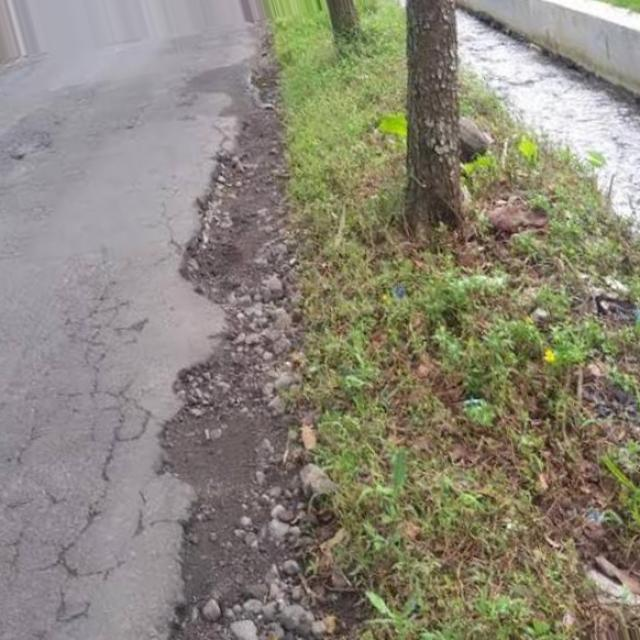Pinggir: (140, 69, 382, 640)
